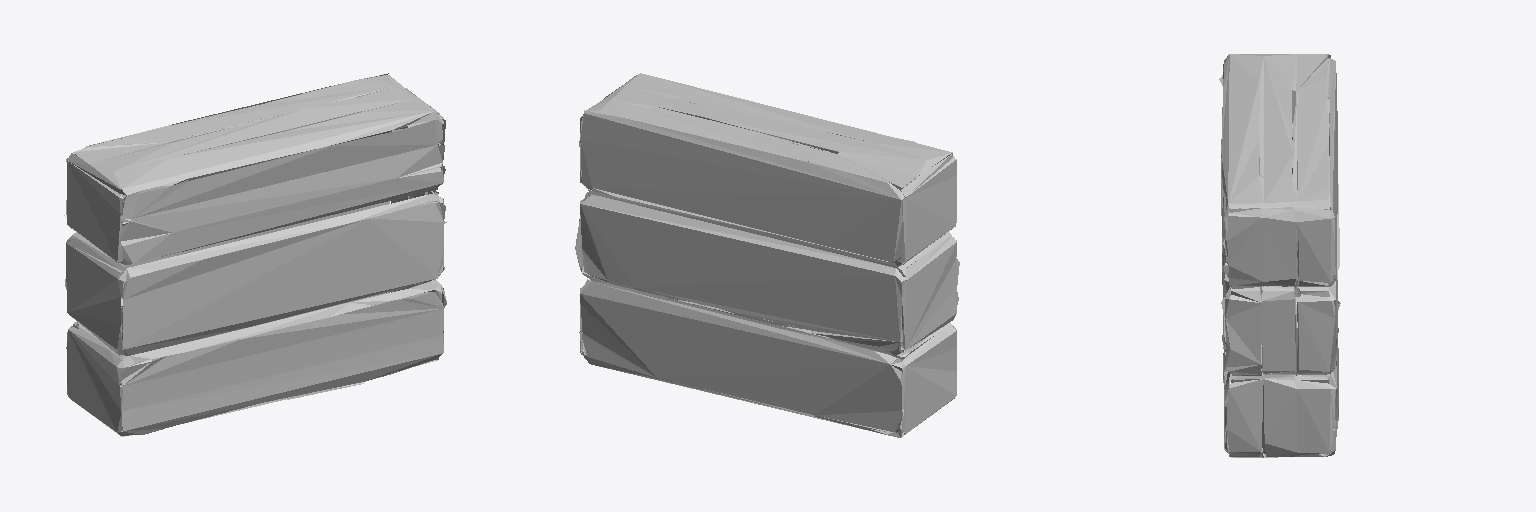
Rendered from WoodenFuckingSign.obj.
3 views of the same model, side by side, from view 1: azimuth 30°, elevation 25°; view 2: azimuth 150°, elevation 25°; view 3: azimuth 270°, elevation 25° (orthographic).
Visible parts, largest first — view 1: model; view 2: model; view 3: model.
Boxes of the visible parts, box(x1,y1,x2,y2) form: model: box(64, 73, 446, 436); model: box(575, 73, 959, 437); model: box(1219, 54, 1340, 457).
Size of the model in its own units: 1.91 by 1.44 by 0.6091.